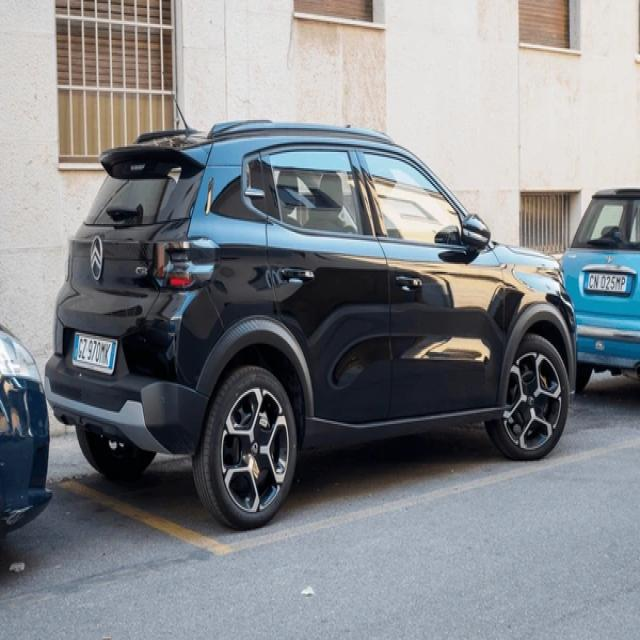citroen: (84, 229, 108, 287)
